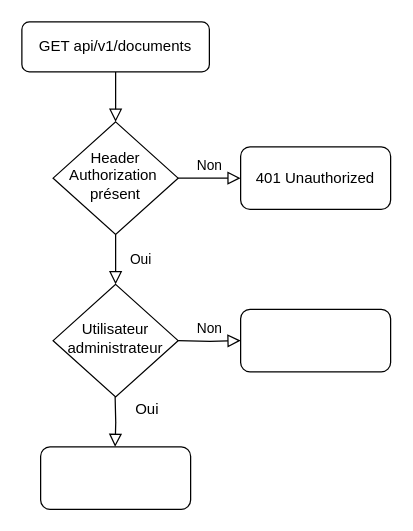
The diagram is 413 pixels wide and 531 high, and some of its shapes have lost their labels. The shapes that lost their labels are listed below. From the top down, each one's centre as x and y in pixels, then its label:
At [315,340]: "403 Forbidden".
At [115,477]: "200 OK Avec résultat en JSON".
